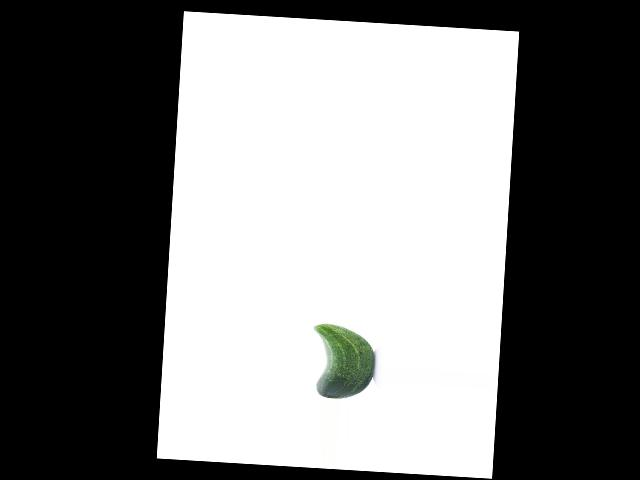cucumber: (310, 322, 376, 400)
